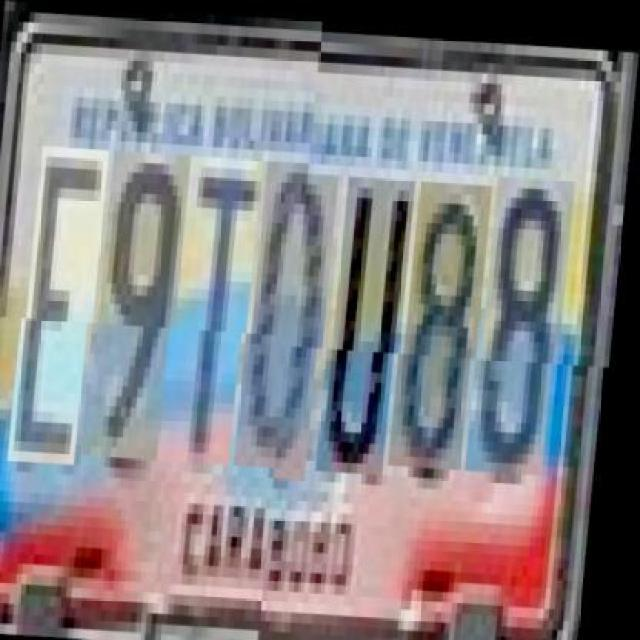8: (478, 168, 578, 468), (402, 175, 496, 463)
9: (94, 160, 194, 468)
e: (20, 155, 111, 474)
o: (247, 167, 342, 476)
t: (170, 163, 265, 472)
u: (330, 172, 419, 470)
